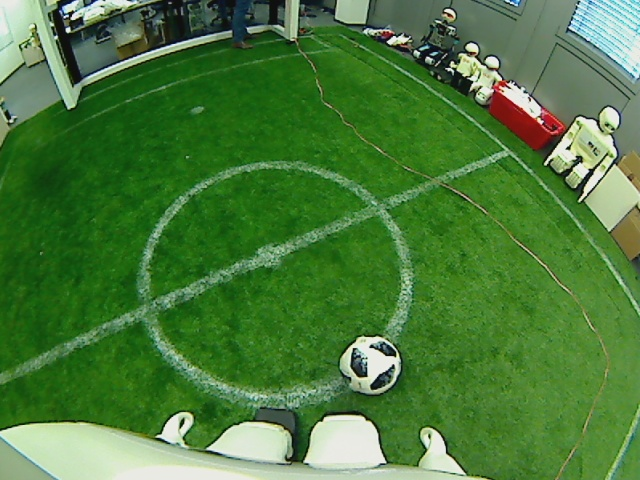ball: (339, 333, 403, 396)
